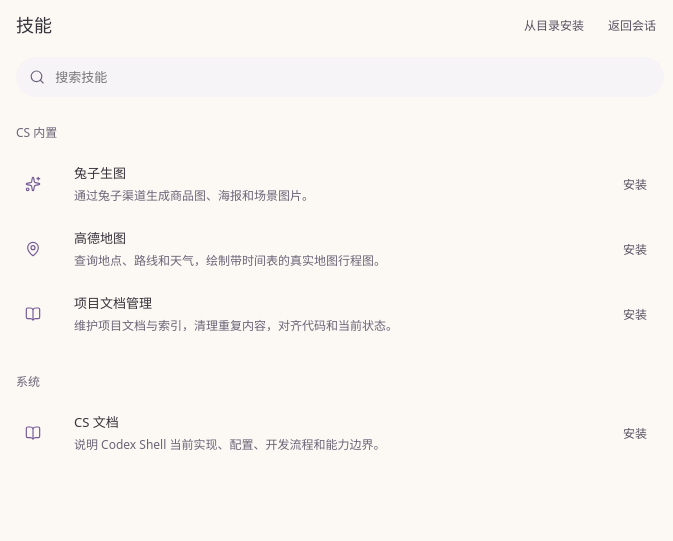
Scenario: reports an unsuccessful default disable: reject
Click the button "安装" in the row of "维护项目文档与索引，清理重复内容，对齐代码和当前状态。". click: click(635, 314)
box: [614,298,656,328]
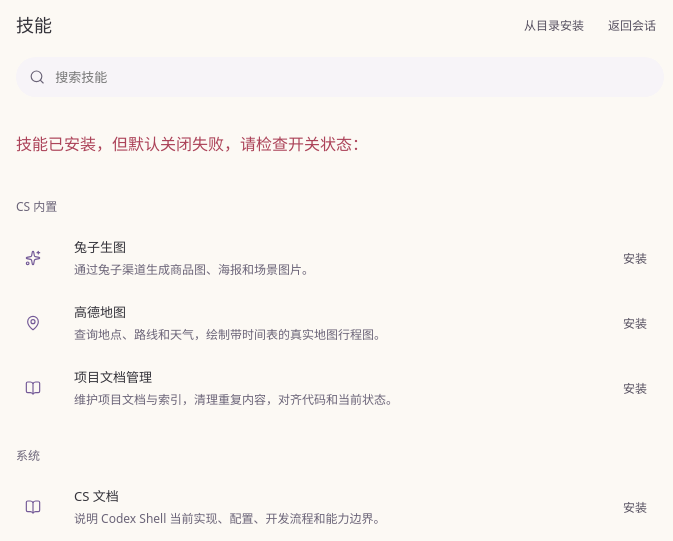
Expected: the message shows "默认关闭失败", [16,133,368,155]
